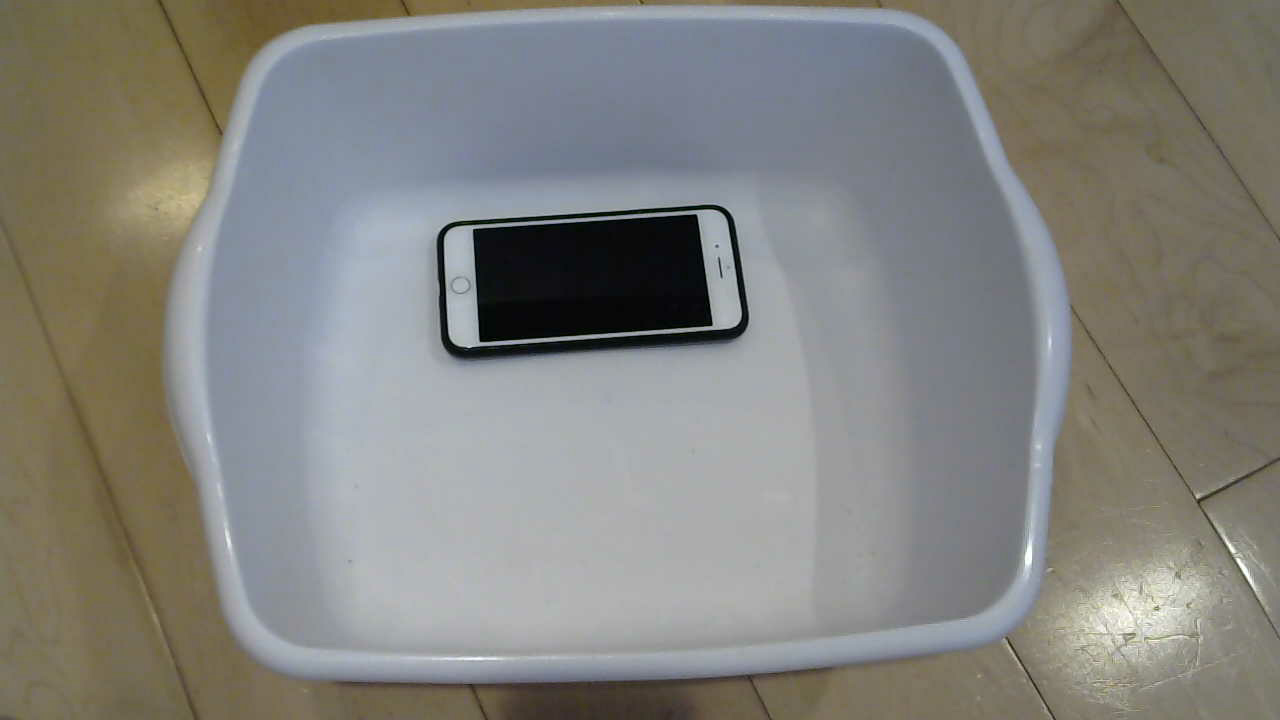phone: (447, 208, 772, 379)
